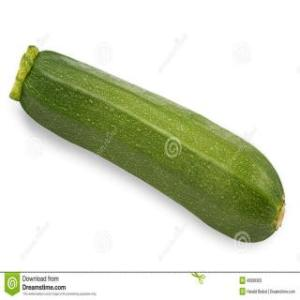zucchini: (0, 38, 300, 262)
